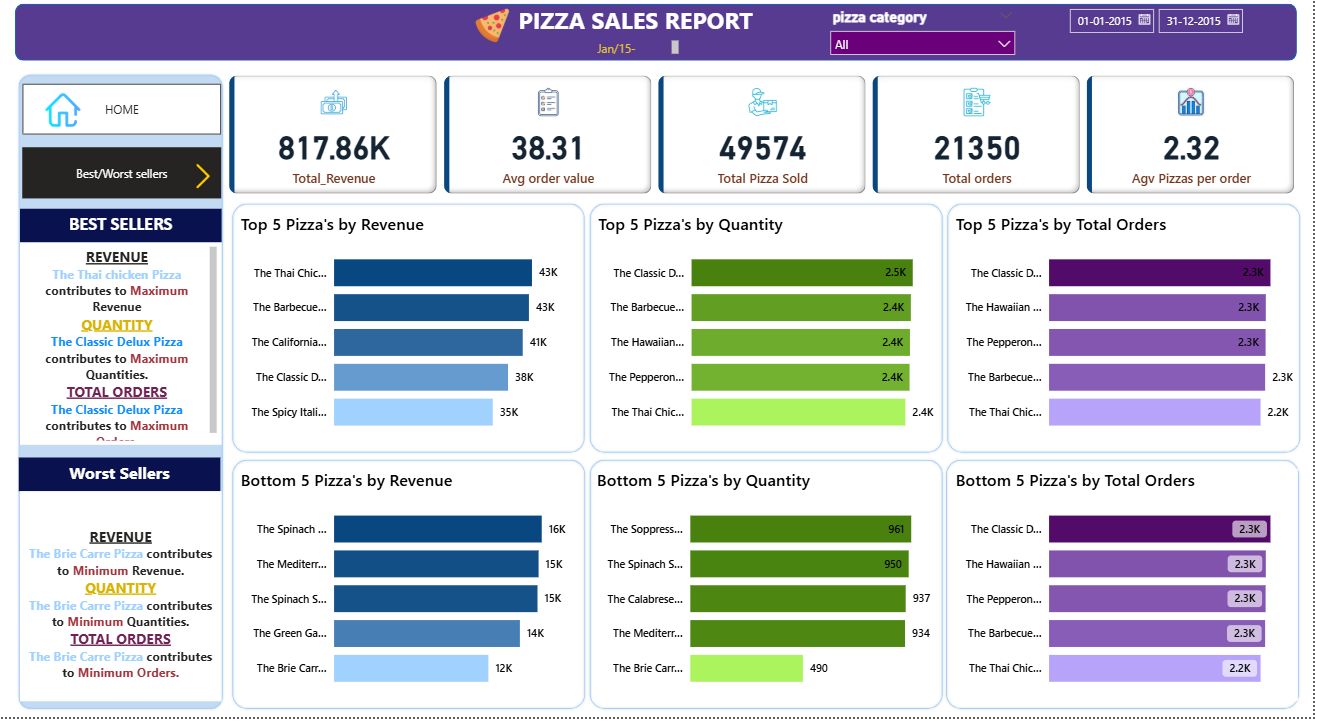

The page's visual inventory and layout, read from the dashboard file:
{"tool":"powerbi","page":{"name":"Best/Worst sellers","canvas":[1500,820],"ordinal":1},"visuals":[{"type":"shape","box":[17.5,3.8,1465,65],"z":0},{"type":"cardVisual","fields":{"Data":["pizza_sales.Total_Revenue","pizza_sales.Avg order value","pizza_sales.Total Pizza Sold","pizza_sales.Total orders","pizza_sales.Agv Pizzas per order"]},"box":[256.7,81.7,1230,145],"z":1000},{"type":"textbox","box":[582.5,0,287.5,50],"z":2000},{"type":"textbox","box":[677.5,41.2,103.8,27.5],"z":3000},{"type":"image","box":[531.2,3.8,62.5,50],"z":4000},{"type":"shape","box":[262.9,230,408,290],"z":5000},{"type":"shape","box":[18.6,82.9,238.6,730],"z":6000},{"type":"textbox","box":[22.5,238.8,230,38.8],"z":7000},{"type":"textbox","box":[22.9,277.1,230,231.4],"z":8000},{"type":"textbox","box":[21.4,522.9,230,38.6],"z":9000},{"type":"textbox","box":[22.9,561.4,230,240],"z":10000},{"type":"slicer","fields":{"Values":["pizza_sales.pizza_category"]},"box":[938.6,4.3,231.4,64.3],"z":11000},{"type":"slicer","fields":{"Values":["pizza_sales.order_date"]},"box":[1210,0,225.7,68.6],"z":12000},{"type":"shape","box":[671.4,230,408.6,290],"z":13000},{"type":"shape","box":[1080,230,408.6,290],"z":14000},{"type":"shape","box":[262.9,522.9,408.6,290],"z":15000},{"type":"shape","box":[671.4,522.9,408.6,290],"z":16000},{"type":"shape","box":[1078.6,522.9,408.6,290],"z":17000},{"type":"barChart","title":"Top 5 Pizza''s by Revenue","fields":{"Category":["pizza_sales.pizza_name"],"Y":["pizza_sales.Total_Revenue"]},"box":[270,242.9,394.3,265.7],"z":18000},{"type":"barChart","title":"Bottom 5 Pizza''s by Revenue","fields":{"Category":["pizza_sales.pizza_name"],"Y":["pizza_sales.Total_Revenue"]},"box":[270,535.7,394.3,265.7],"z":19000},{"type":"barChart","title":"Top 5 Pizza''s by Quantity","fields":{"Category":["pizza_sales.pizza_name"],"Y":["pizza_sales.Total Pizza Sold"]},"box":[678.6,242.9,394.3,265.7],"z":20000},{"type":"barChart","title":"Bottom 5 Pizza''s by Quantity","fields":{"Category":["pizza_sales.pizza_name"],"Y":["pizza_sales.Total Pizza Sold"]},"box":[677.1,535.7,394.3,265.7],"z":21000},{"type":"barChart","title":"Top 5 Pizza''s by Total Orders","fields":{"Category":["pizza_sales.pizza_name"],"Y":["pizza_sales.Total orders"]},"box":[1087.1,242.9,395.7,265.7],"z":22000},{"type":"barChart","title":"Bottom 5 Pizza''s by Total Orders","fields":{"Category":["pizza_sales.pizza_name"],"Y":["pizza_sales.Total orders"]},"box":[1087.1,535.7,395.7,265.7],"z":23000},{"type":"pageNavigator","box":[25.7,168.6,227.1,58.6],"z":24000},{"type":"pageNavigator","box":[25.7,95.7,227.1,58.6],"z":25000},{"type":"image","box":[47.1,98.6,50,54.3],"z":26000},{"type":"image","box":[212.9,175.7,38.6,51.4],"z":27000}]}

Visuals, with their boxes in screenshot pixels (x1, y1, x2, y2), scaled from the page's 1500x820 canvas onto the 1317x725 screenshot:
shape: box(15, 3, 1302, 61)
cardVisual - pizza_sales.Total_Revenue x pizza_sales.Avg order value: box(225, 72, 1305, 200)
textbox: box(511, 0, 764, 44)
textbox: box(595, 36, 686, 61)
image: box(466, 3, 521, 48)
shape: box(231, 203, 589, 460)
shape: box(16, 73, 226, 719)
textbox: box(20, 211, 222, 245)
textbox: box(20, 245, 222, 450)
textbox: box(19, 462, 221, 496)
textbox: box(20, 496, 222, 709)
slicer - pizza_sales.pizza_category: box(824, 4, 1027, 61)
slicer - pizza_sales.order_date: box(1062, 0, 1261, 61)
shape: box(589, 203, 948, 460)
shape: box(948, 203, 1307, 460)
shape: box(231, 462, 590, 719)
shape: box(589, 462, 948, 719)
shape: box(947, 462, 1306, 719)
"Top 5 Pizza''s by Revenue" barChart: box(237, 215, 583, 450)
"Bottom 5 Pizza''s by Revenue" barChart: box(237, 474, 583, 709)
"Top 5 Pizza''s by Quantity" barChart: box(596, 215, 942, 450)
"Bottom 5 Pizza''s by Quantity" barChart: box(594, 474, 941, 709)
"Top 5 Pizza''s by Total Orders" barChart: box(954, 215, 1302, 450)
"Bottom 5 Pizza''s by Total Orders" barChart: box(954, 474, 1302, 709)
pageNavigator: box(23, 149, 222, 201)
pageNavigator: box(23, 85, 222, 136)
image: box(41, 87, 85, 135)
image: box(187, 155, 221, 201)
